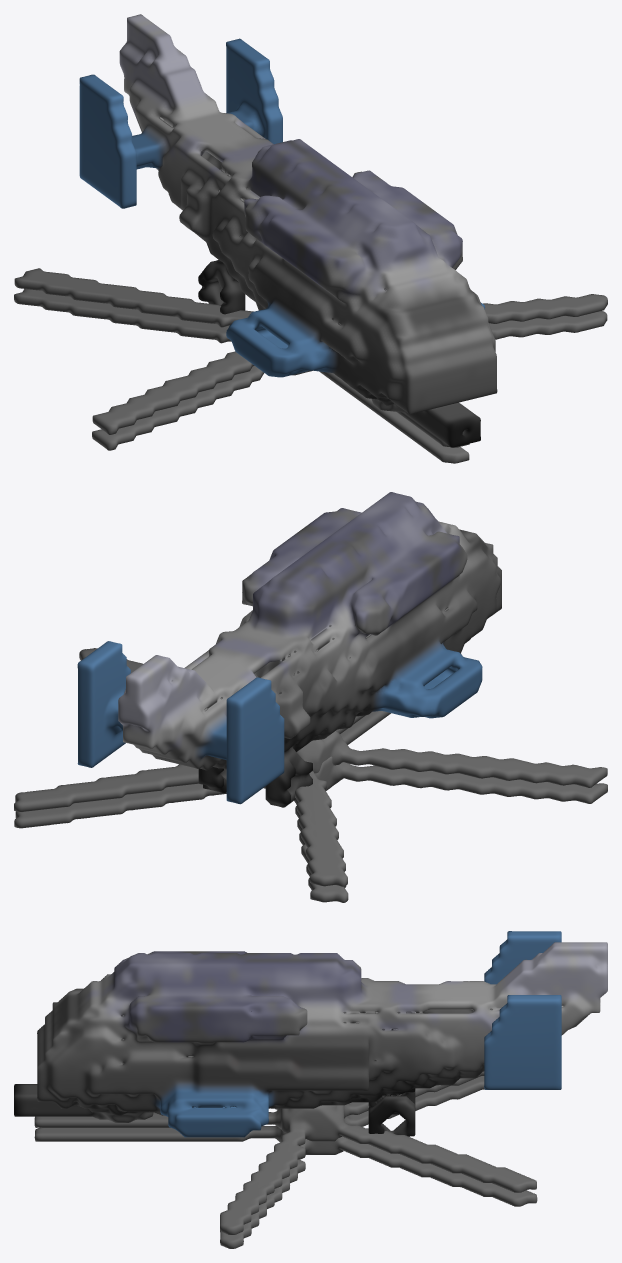
Rendered from nighthawk_chopper.glb.
3 views of the same model, one above another, from view 1: azimuth 30°, elevation 25°; view 2: azimuth 150°, elevation 25°; view 3: azimuth 270°, elevation 25° (orthographic). The views are drawn at different scales.
Parts seen in each view (by area): view 1: nighthawk_chopper; view 2: nighthawk_chopper; view 3: nighthawk_chopper.
Boxes of the visible parts, <box> form: nighthawk_chopper: <box>14,14,607,463</box>; nighthawk_chopper: <box>14,492,607,902</box>; nighthawk_chopper: <box>14,931,607,1248</box>.
Size of the model in its own units: 5.62 by 2.35 by 6.37.
